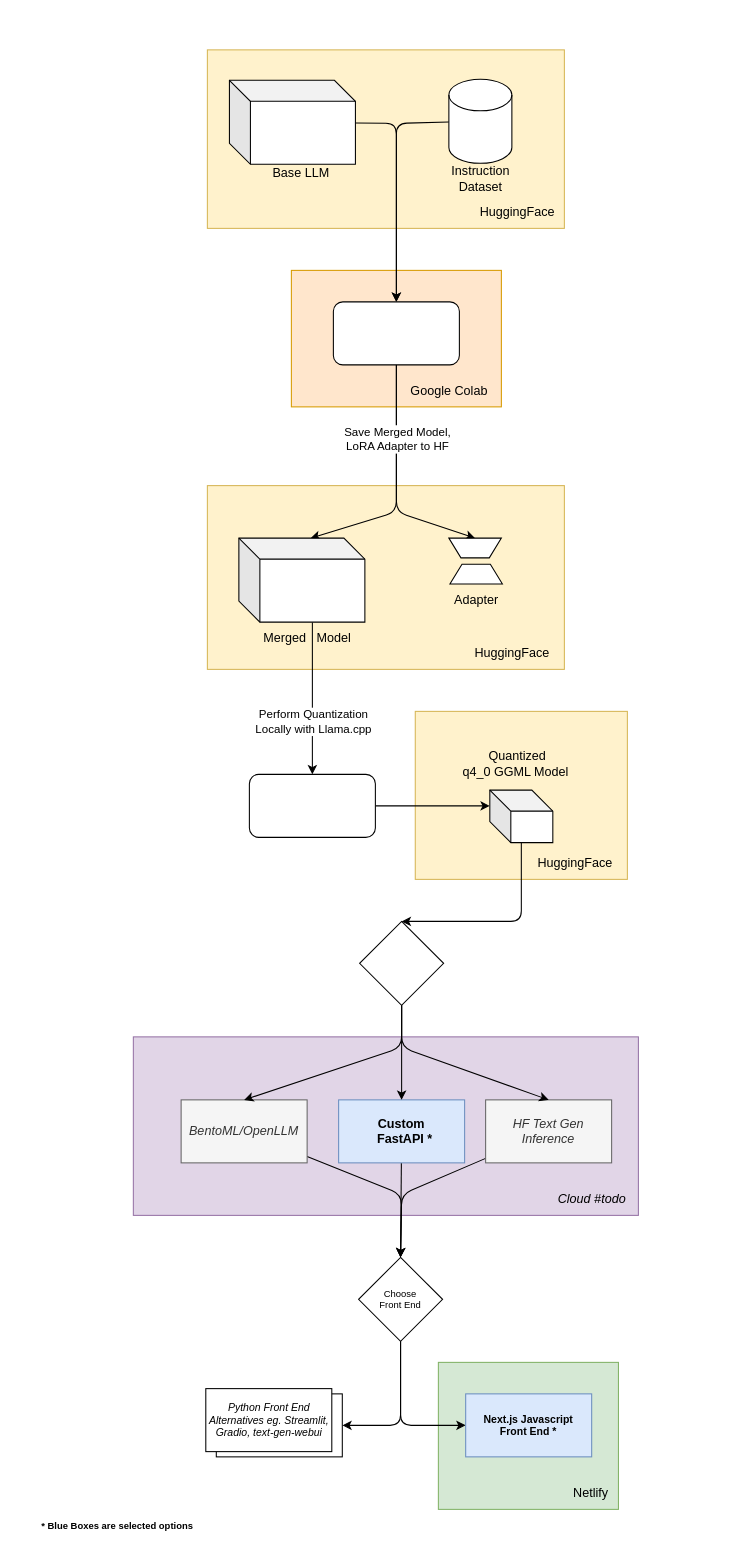
Some shapes in this 739 by 1561 pixel diagram are drawn without their labels. Here are the shapes that lost their labels. From the top down, the centre of each, then its label:
(395,333): Training / Tuning
(311,805): Quantization
(401,962): Choose API Server
